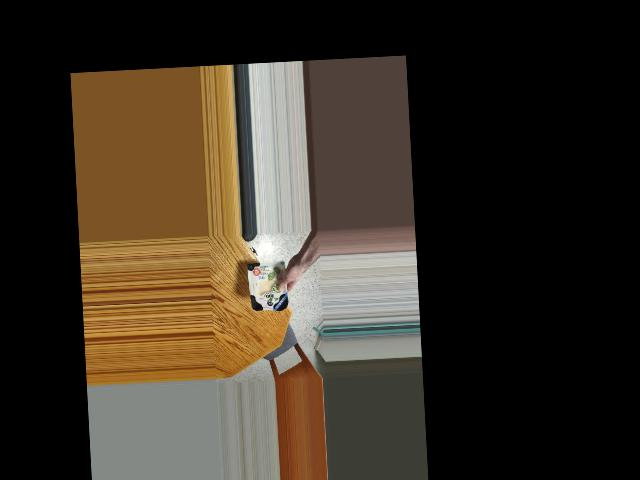cheese: (247, 250, 290, 323)
